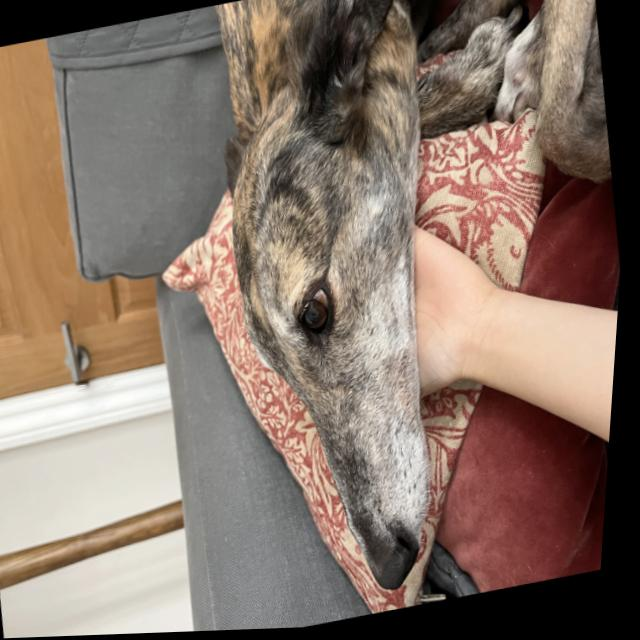dog-greyhound: (169, 0, 503, 621)
